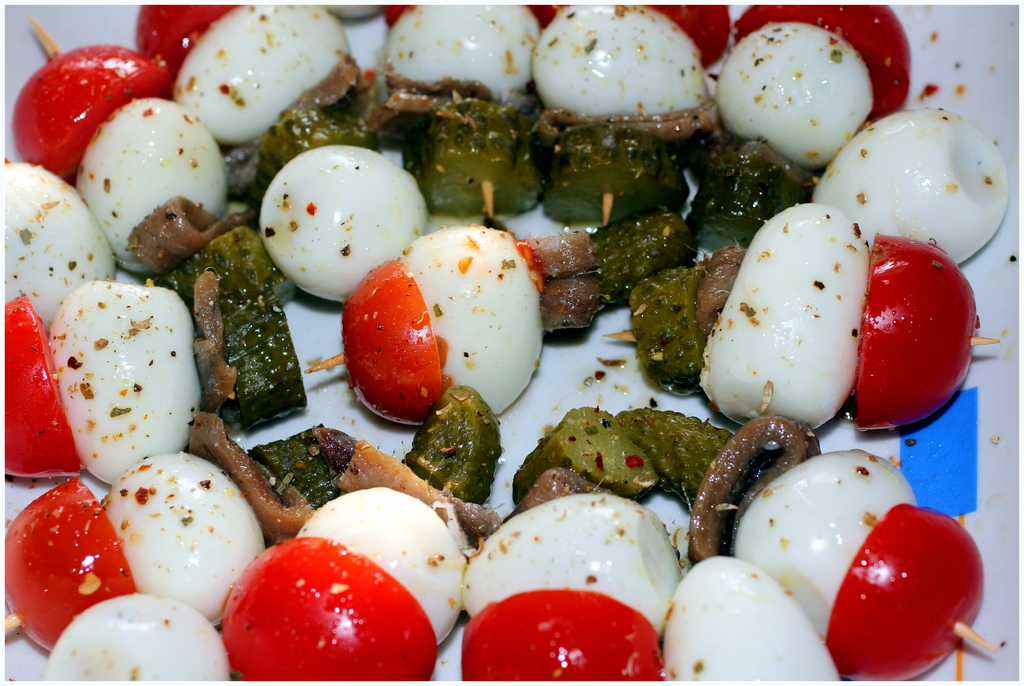Tomato: (220, 537, 440, 677), (828, 501, 982, 680), (861, 237, 977, 429), (5, 479, 133, 648), (14, 47, 176, 179), (730, 5, 910, 119), (463, 589, 661, 680), (342, 254, 438, 421), (5, 298, 84, 475), (557, 5, 731, 64), (135, 5, 240, 70), (385, 6, 553, 28)
